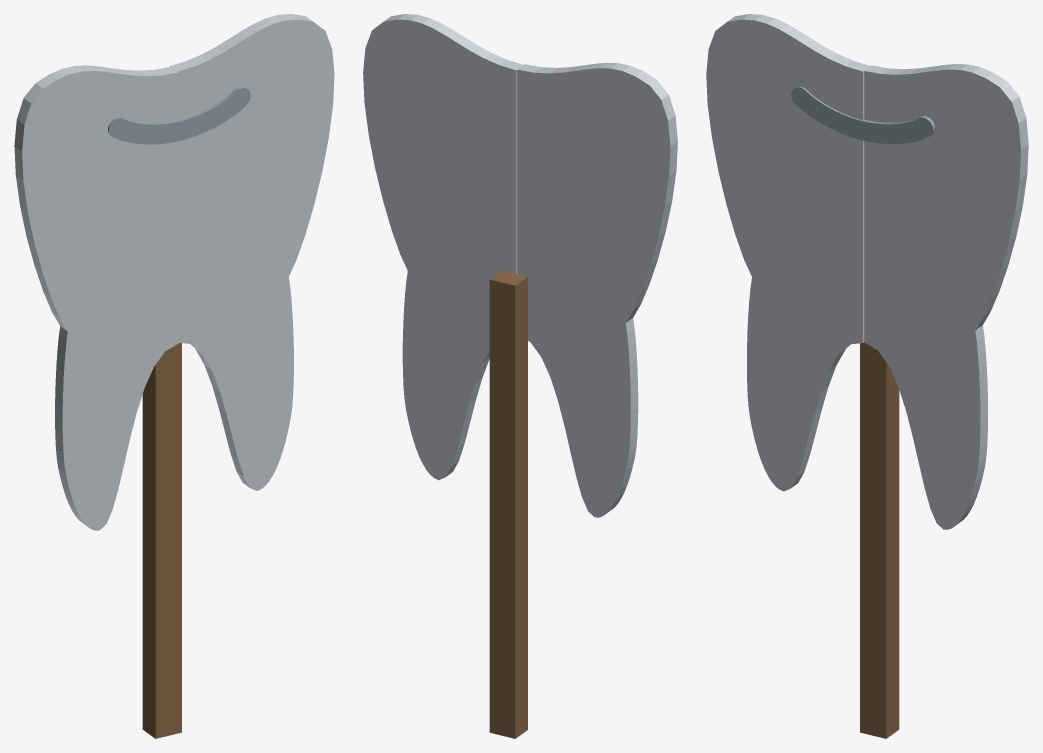
The model's file is dent.glb.
3 views of the same model, side by side, from view 1: azimuth 30°, elevation 25°; view 2: azimuth 150°, elevation 25°; view 3: azimuth 330°, elevation 25° (orthographic). The views are drawn at different scales.
Size of the model in its own units: 0.7076 by 1.5 by 0.093.
